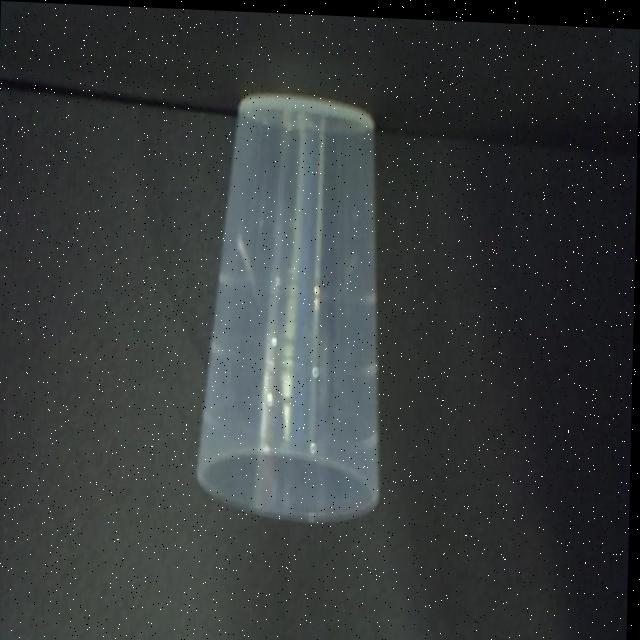cup: (198, 91, 379, 519)
